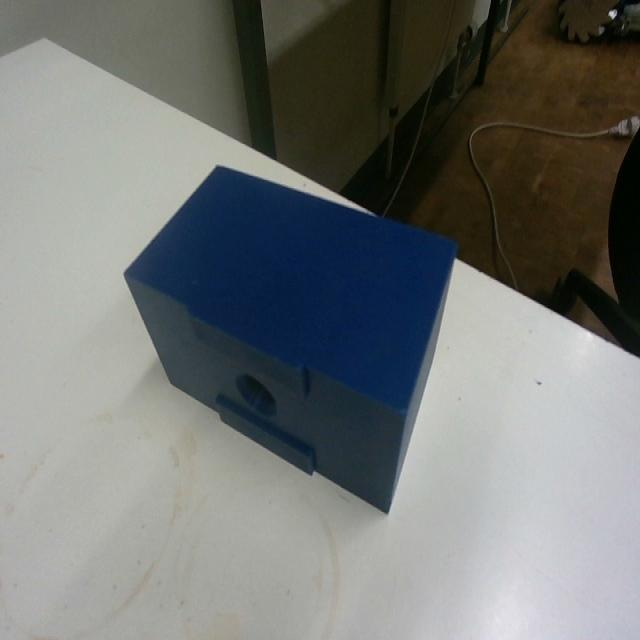Blue Cuboid: (121, 160, 459, 515)
